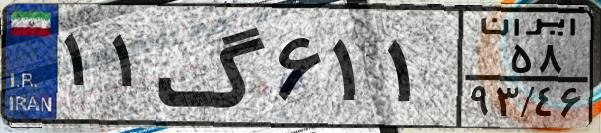1: (385, 28, 445, 110), (330, 28, 385, 110), (57, 26, 110, 100), (110, 28, 156, 98)
3: (495, 70, 520, 125)
4: (535, 70, 560, 125)
5: (508, 27, 537, 80)
6: (270, 28, 330, 110), (560, 70, 590, 125)
8: (537, 27, 568, 80)
9: (470, 70, 495, 125)
گ: (156, 12, 270, 120)
